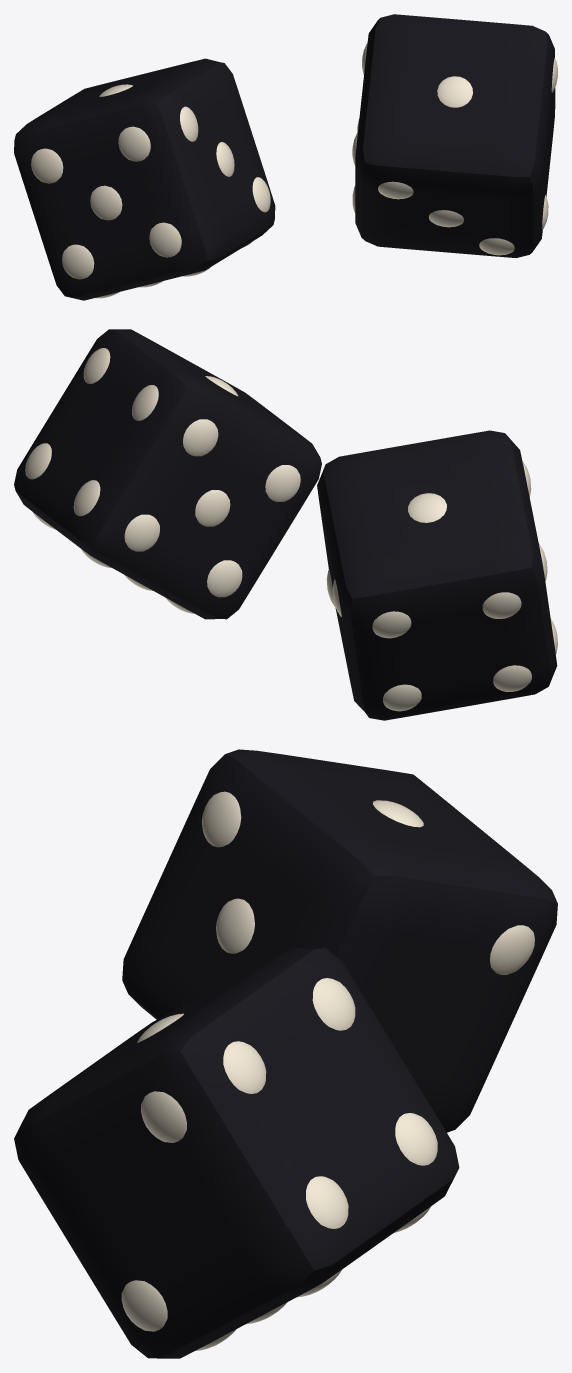
Rendered from dice_black.glb.
3 renders of one model, top to bottom at view 1: azimuth 30°, elevation 25°; view 2: azimuth 150°, elevation 25°; view 3: azimuth 270°, elevation 25°, orthographic. The views are drawn at different scales.
Parts seen in each view (by area): view 1: die_2_cube, die_1_cube, die_1_pip (×8), die_2_pip (×4); view 2: die_1_cube, die_2_cube, die_2_pip (×9), die_1_pip (×5); view 3: die_2_cube, die_1_cube, die_2_pip (×6), die_1_pip (×4).
Boxes of the visible parts, bbox=[...] form: die_2_cube: bbox=[355, 14, 555, 257]; die_1_cube: bbox=[14, 58, 275, 300]; die_1_pip (×8): bbox=[31, 106, 270, 279]; die_2_pip (×4): bbox=[378, 76, 514, 255]; die_1_cube: bbox=[317, 430, 557, 720]; die_2_cube: bbox=[14, 329, 321, 619]; die_2_pip (×9): bbox=[25, 348, 300, 597]; die_1_pip (×5): bbox=[372, 493, 531, 711]; die_2_cube: bbox=[14, 947, 459, 1358]; die_1_cube: bbox=[122, 749, 557, 1132]; die_2_pip (×6): bbox=[121, 978, 437, 1331]; die_1_pip (×4): bbox=[201, 791, 534, 974].
Bounding box in the file's own units: 0.0526 × 0.0225 × 0.0316.
